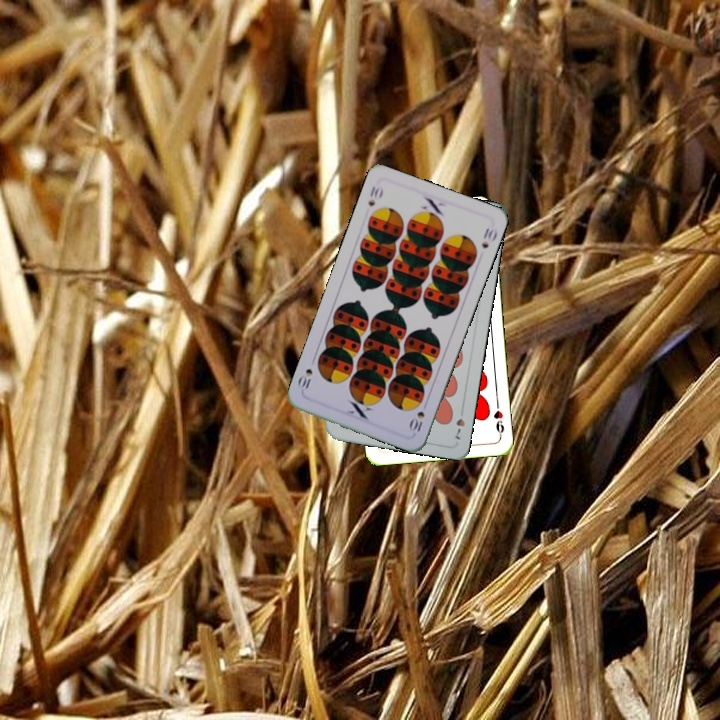H7: (451, 403, 467, 442)
H9: (490, 399, 507, 439)
S10: (406, 397, 430, 436), (364, 182, 386, 209)
